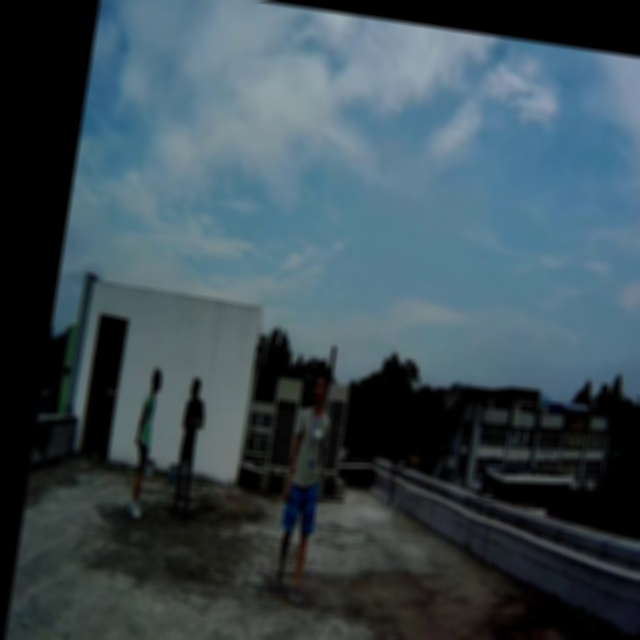Sin_Casco_Mascarrilla: (310, 372, 330, 409)
Sin_Chaleco: (288, 406, 333, 492)
